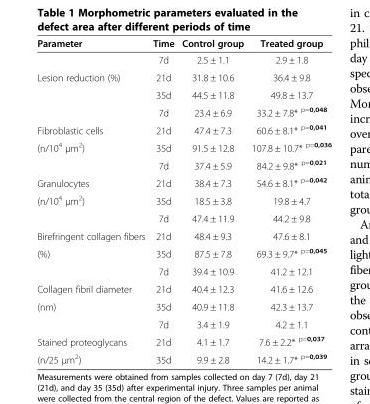table: (36, 37, 331, 365)
table column: (36, 37, 148, 365), (247, 37, 331, 365), (177, 37, 247, 365), (148, 37, 177, 365)
table column header: (36, 37, 331, 51)
table row: (36, 243, 331, 262), (36, 102, 331, 120), (36, 120, 331, 138), (36, 155, 331, 173), (36, 173, 331, 191), (36, 191, 331, 209), (36, 209, 331, 227), (36, 279, 331, 297), (36, 297, 331, 315), (36, 51, 331, 68), (36, 68, 331, 85), (36, 85, 331, 102), (36, 138, 331, 155), (36, 262, 331, 279), (36, 315, 331, 332), (36, 332, 331, 349), (36, 227, 331, 243), (36, 349, 331, 365), (36, 37, 331, 51)
table spanning cell: (36, 68, 148, 120), (36, 191, 148, 227), (36, 243, 148, 279), (36, 138, 148, 173), (36, 297, 148, 332)
